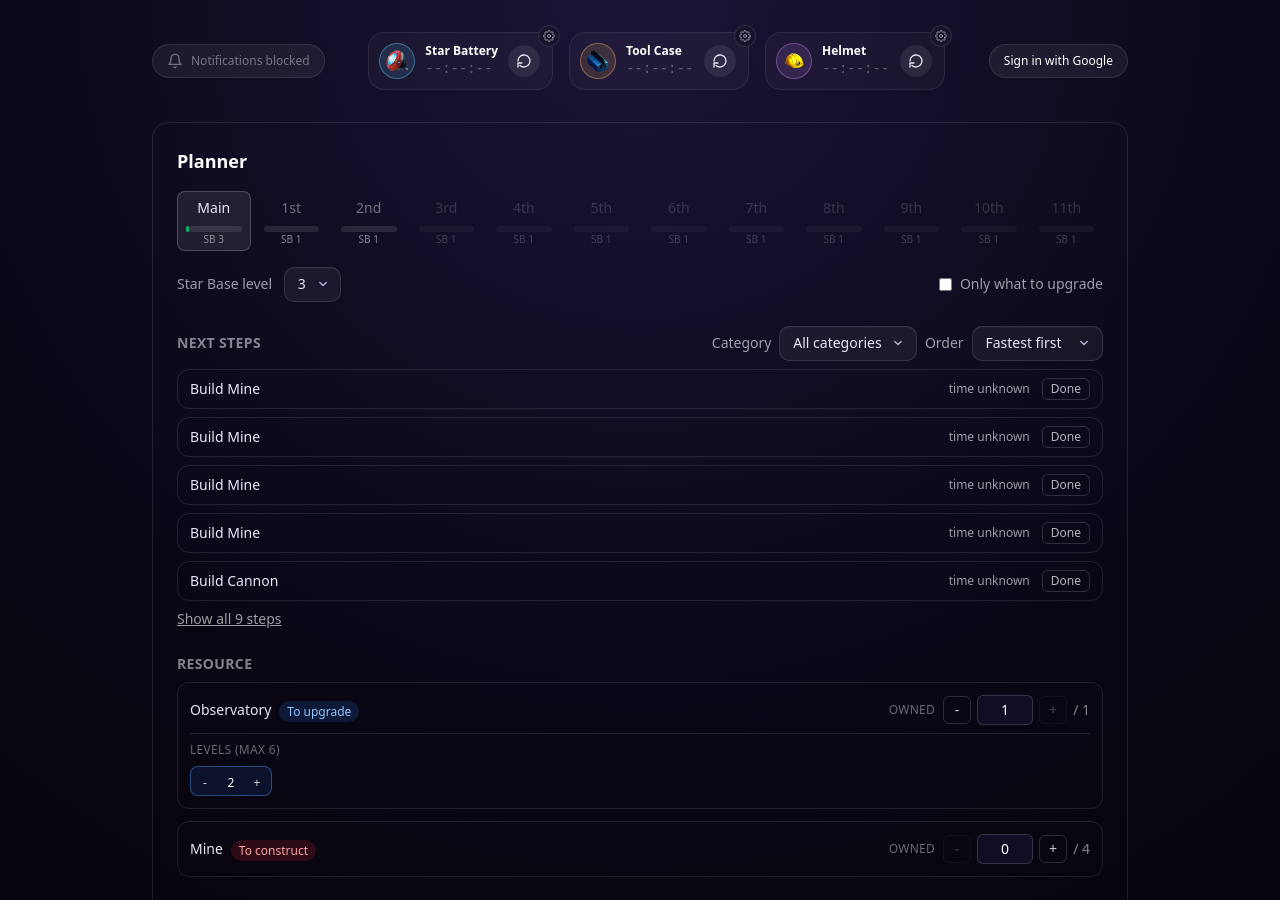
Scenario: App › Planner › Observatory › relocks every Colony when the Observatory is removed
Click the button named "Decrease Observatory owned": [957, 710] box [943,696,971,724]
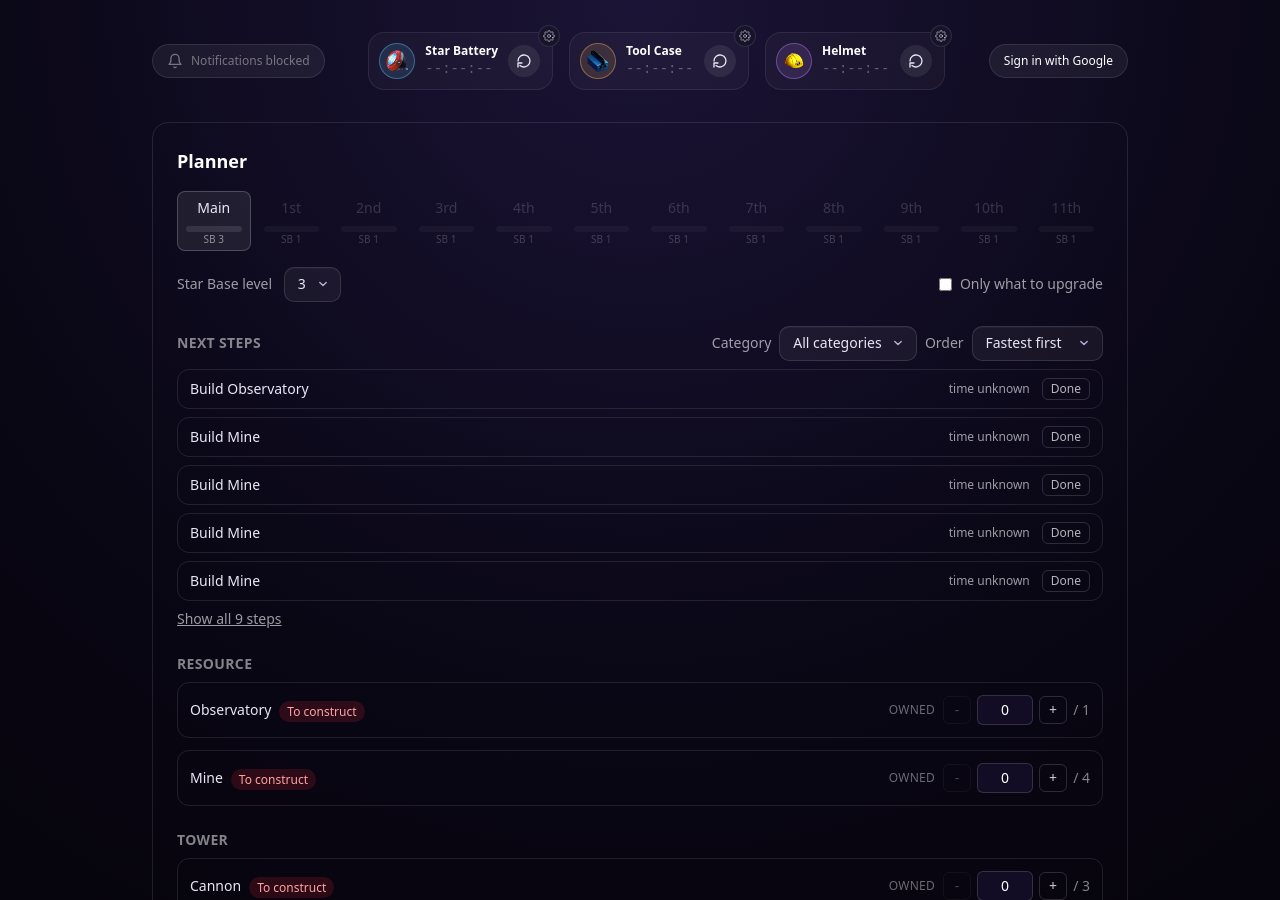
Check: the tab with aria-label "Colony 1" is disabled, box [264,194,319,222]
Check: the tab with aria-label "Colony 2" is disabled, box [341,194,396,222]
